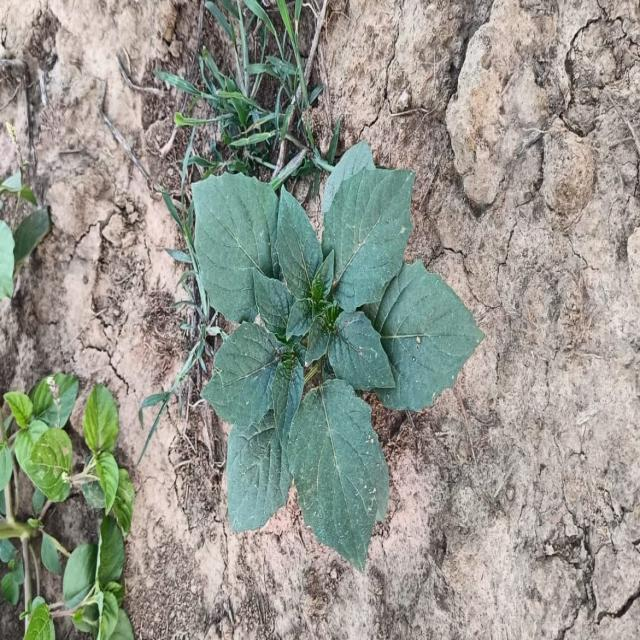weed: (192, 144, 480, 565)
